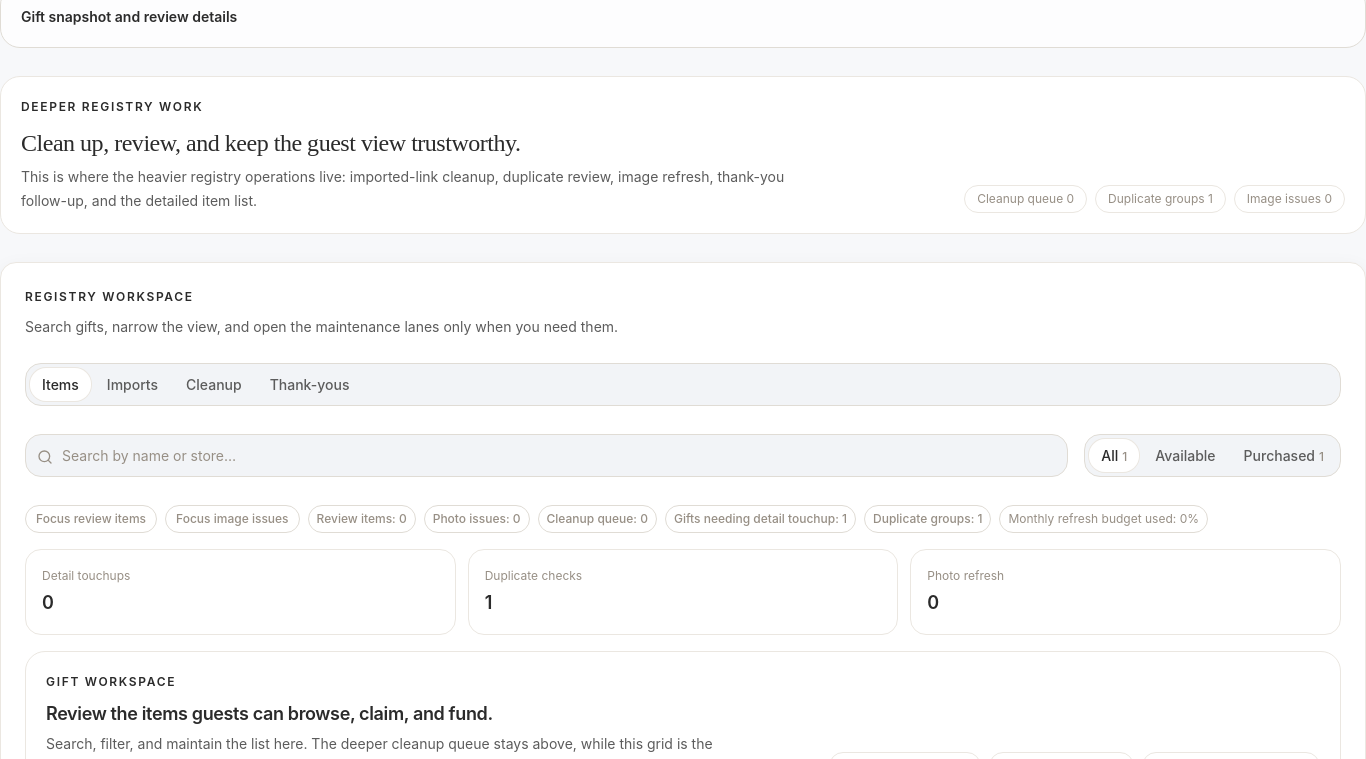
it: RegistryDashboardRouteContent › ignores stale duplicate review copy completion after duplicate groups change
(page scrolled)
What coordinates should you click on to do the following:
click the button "Cleanup"
I would click on:
 (214, 384)
Its box is [174,368,254,401].
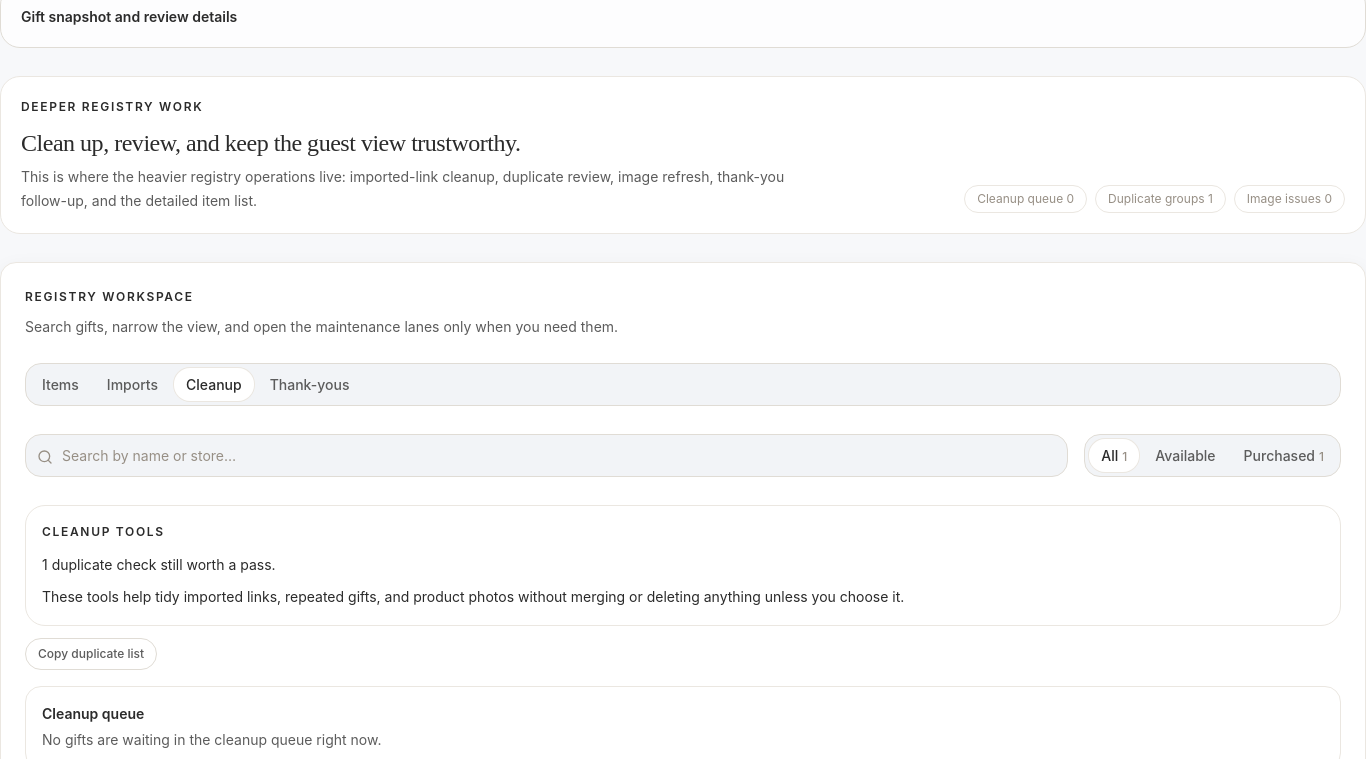
What coordinates should you click on to do the following:
click the button "Copy duplicate list"
I would click on:
 (91, 654)
Its box is [25,638,157,670].
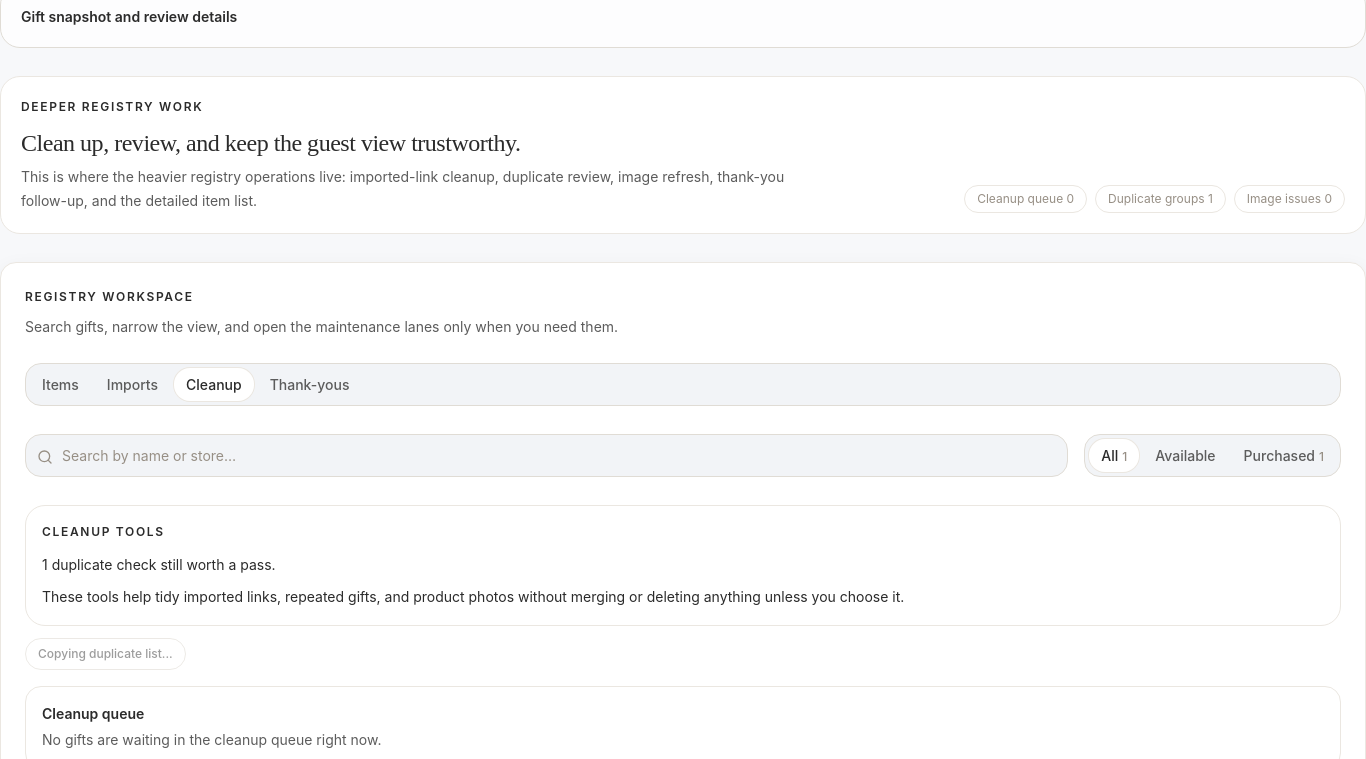
Expected: the button "Copying duplicate list..." is disabled, [25,638,186,670]
